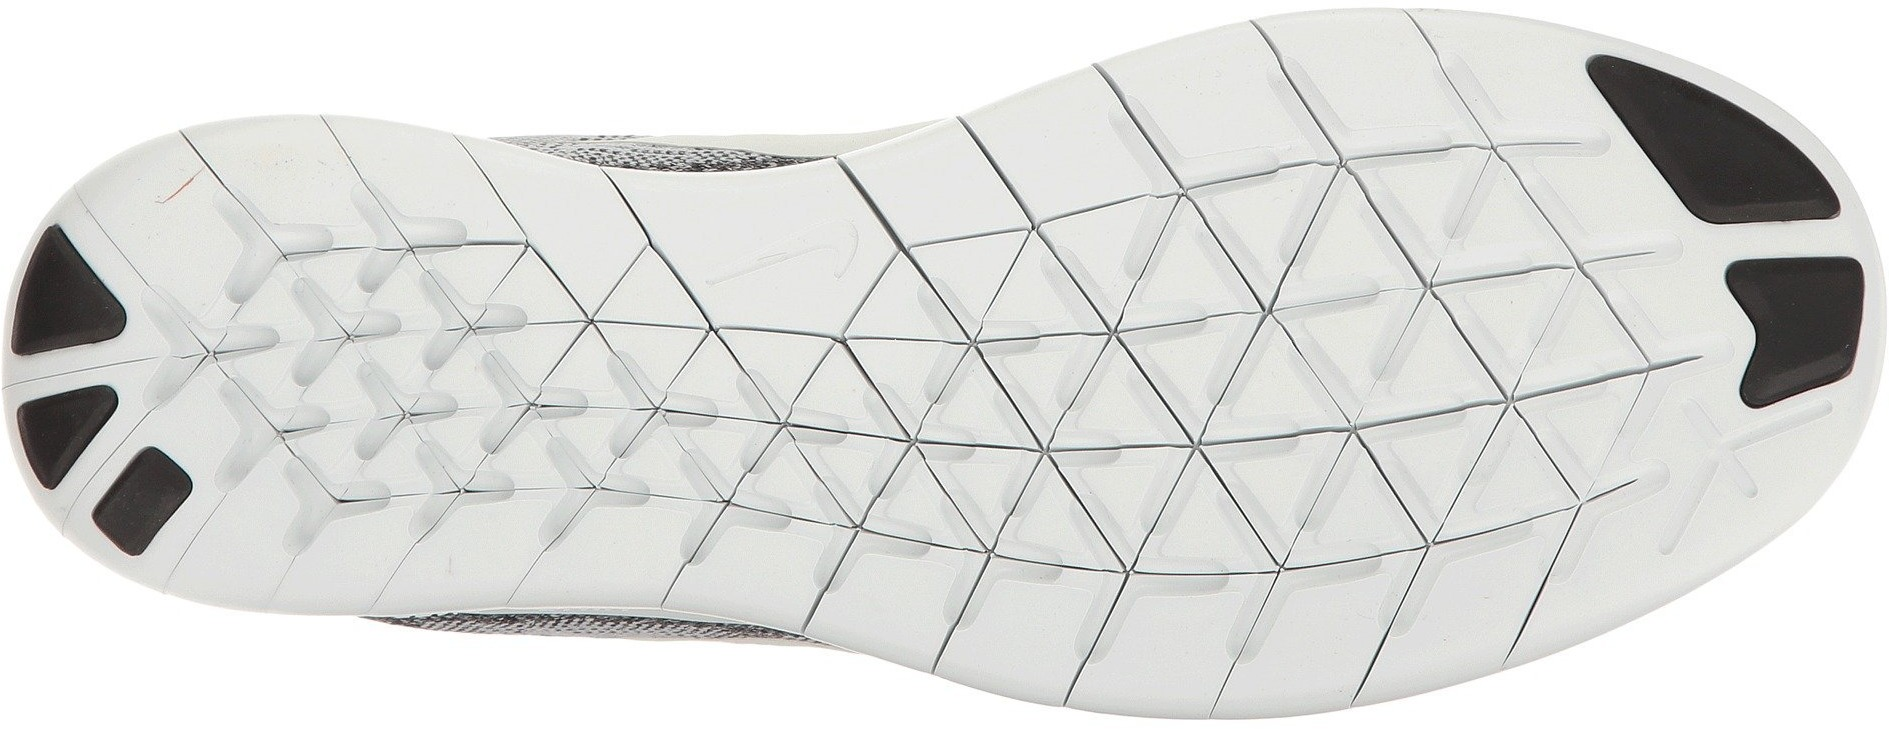polygon: (873, 212, 1288, 576), (1288, 127, 1647, 494), (566, 255, 865, 546), (259, 219, 563, 496)
quad: (873, 212, 1288, 576), (1288, 127, 1647, 494), (566, 255, 865, 546), (259, 219, 563, 496), (77, 453, 228, 572)
star: (873, 212, 1288, 576), (1288, 127, 1647, 494), (566, 255, 865, 546), (259, 219, 563, 496)
triangle: (873, 212, 1288, 576), (1288, 127, 1647, 494), (566, 255, 865, 546), (259, 219, 563, 496), (1, 200, 200, 376), (17, 381, 130, 501)
